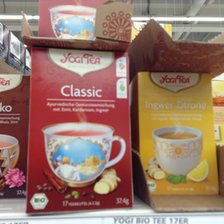tea: (28, 46, 134, 216), (136, 71, 221, 196)
